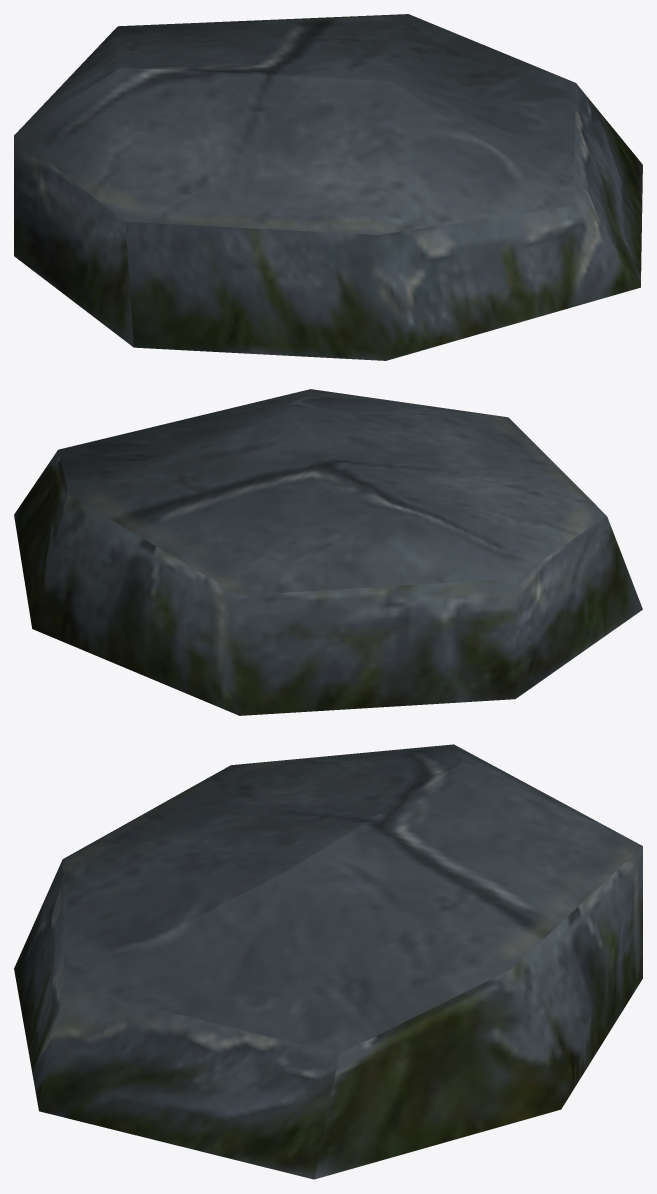
Rendered from C_shitou002.fbx.
3 renders of one model, top to bottom at view 1: azimuth 30°, elevation 25°; view 2: azimuth 150°, elevation 25°; view 3: azimuth 270°, elevation 25°, orthographic. The views are drawn at different scales.
Parts seen in each view (by area): view 1: C_shitou002; view 2: C_shitou002; view 3: C_shitou002.
Part boxes in pixels (bbox=[...]): C_shitou002: bbox=[14, 14, 642, 360]; C_shitou002: bbox=[14, 389, 642, 715]; C_shitou002: bbox=[14, 744, 642, 1179].
Size of the model in its own units: 50.43 by 13.42 by 43.96.
